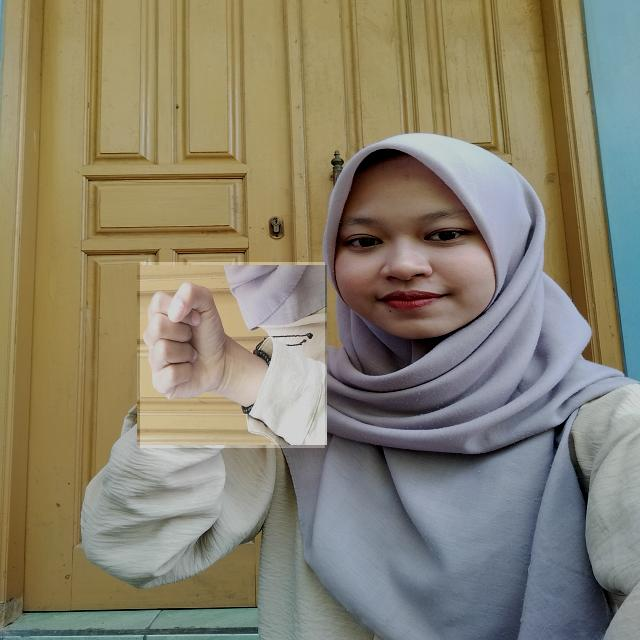baik: (140, 262, 325, 448)
